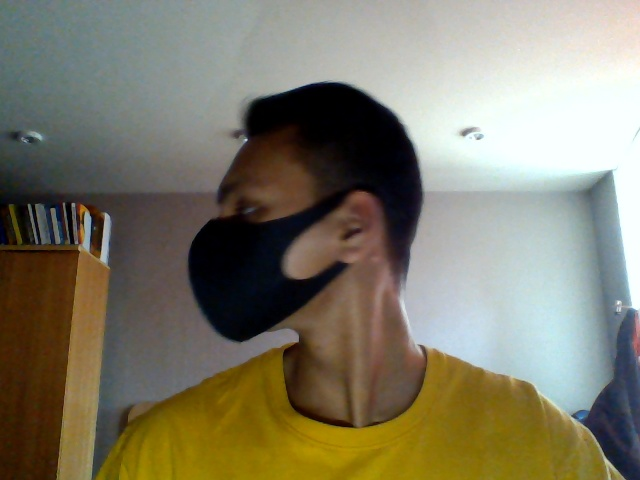mask: (188, 216, 306, 346)
